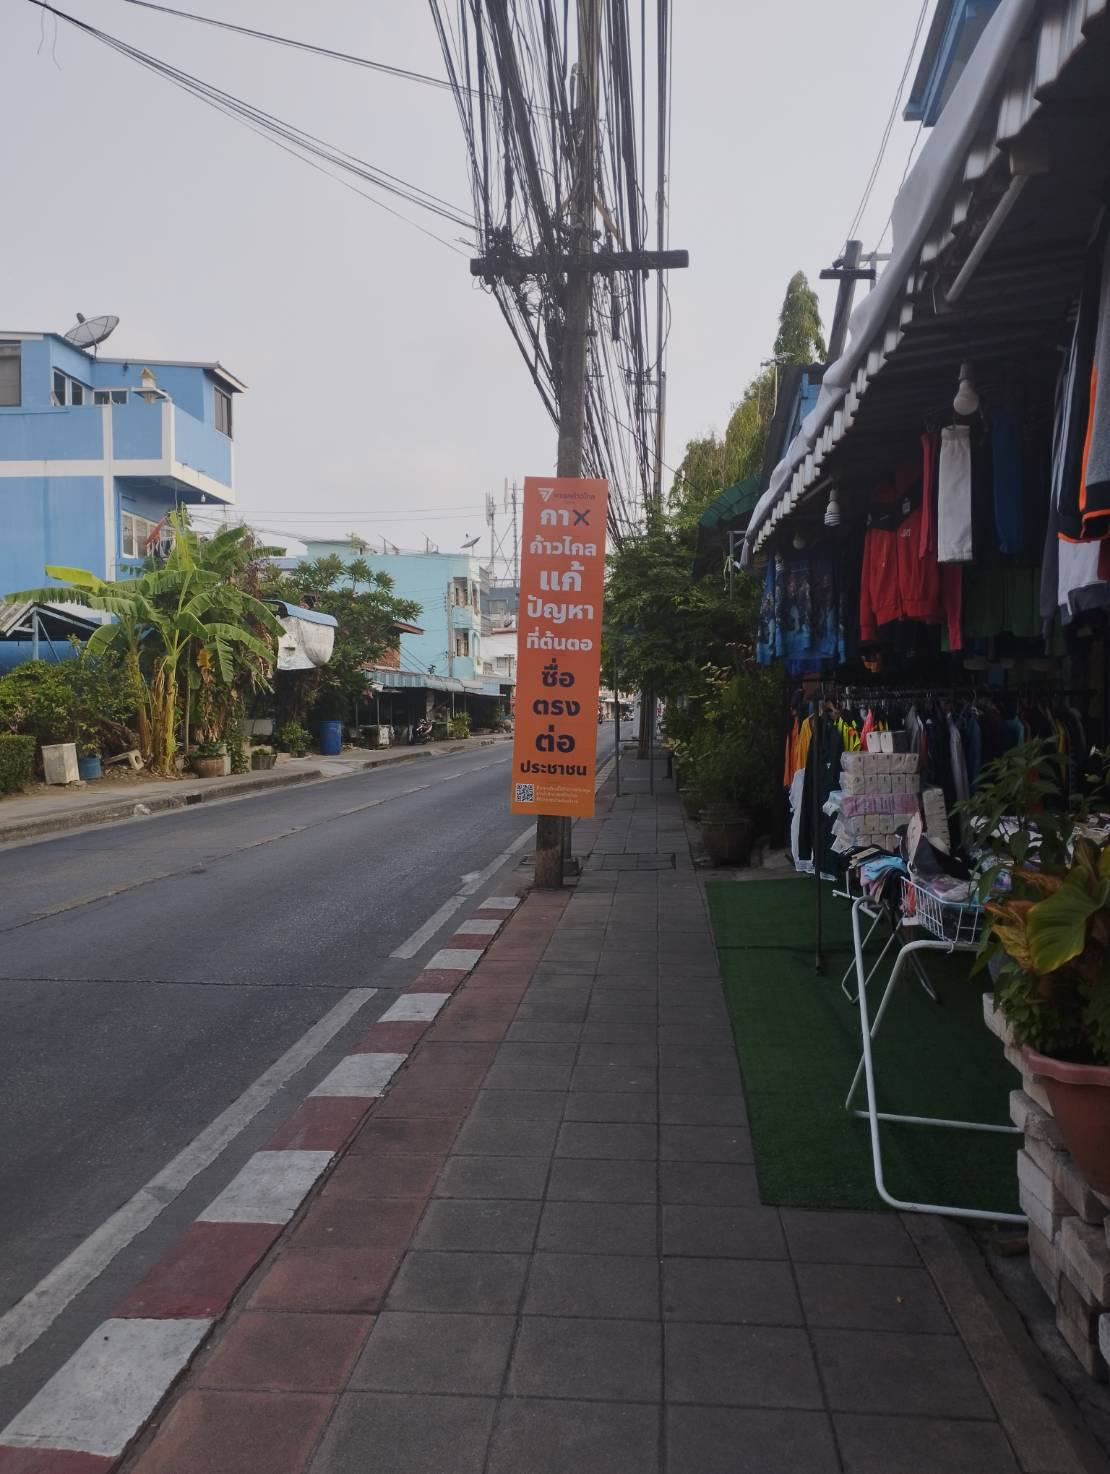Banner: (489, 471, 610, 819)
